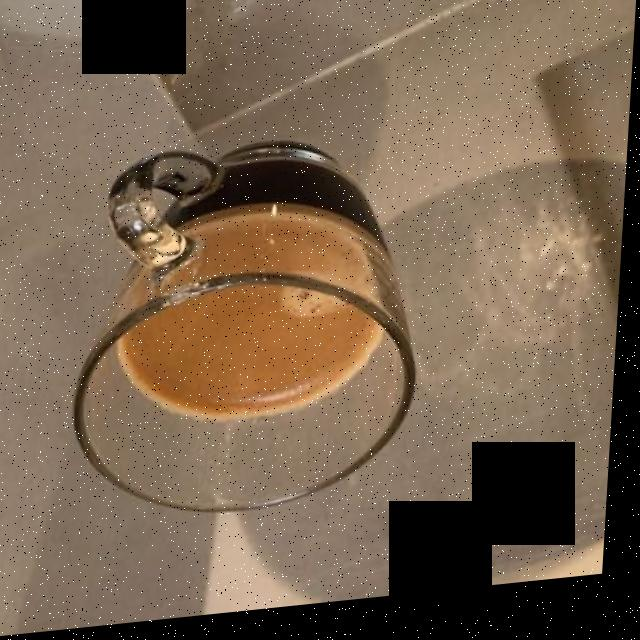coffee-with-caffeine: (127, 288, 373, 420)
